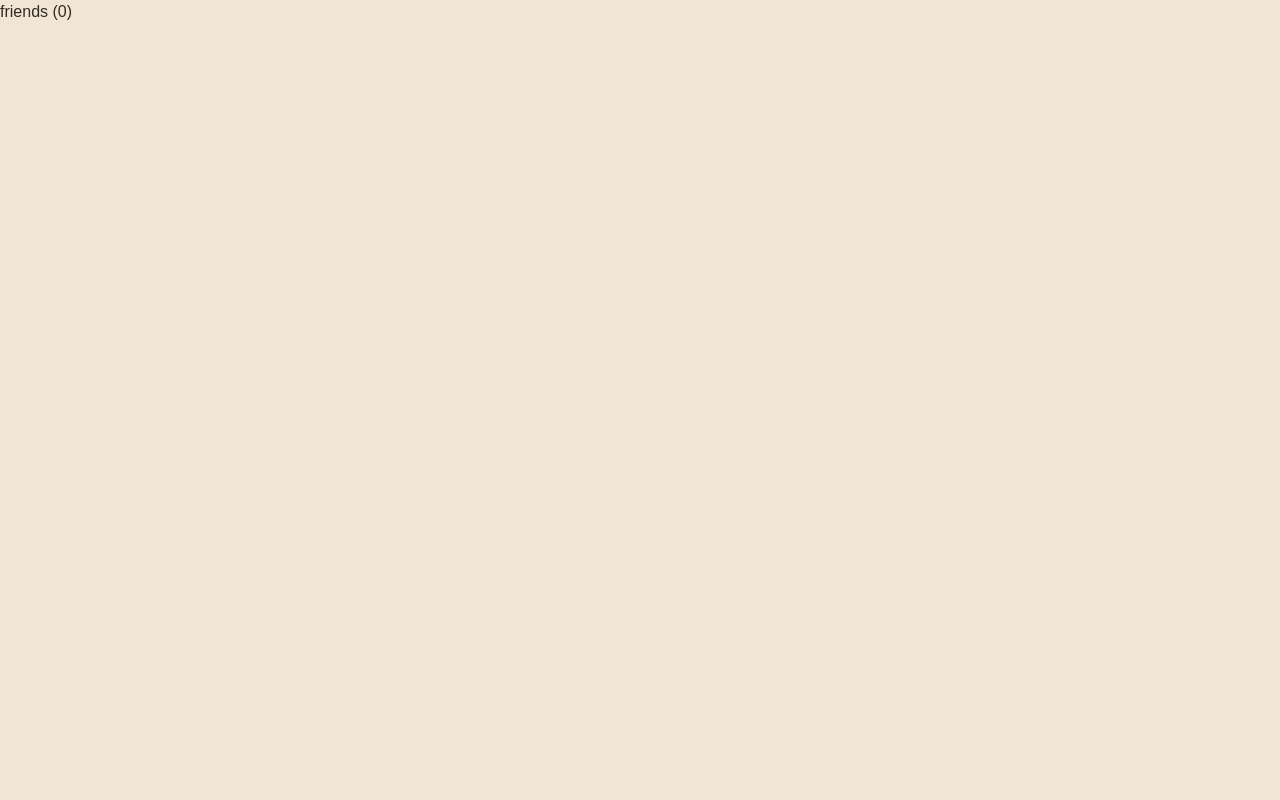
Test: FriendsPanel › search › reports no matches
Click the button "friends (0)" at (36, 12), box [0,0,72,24]
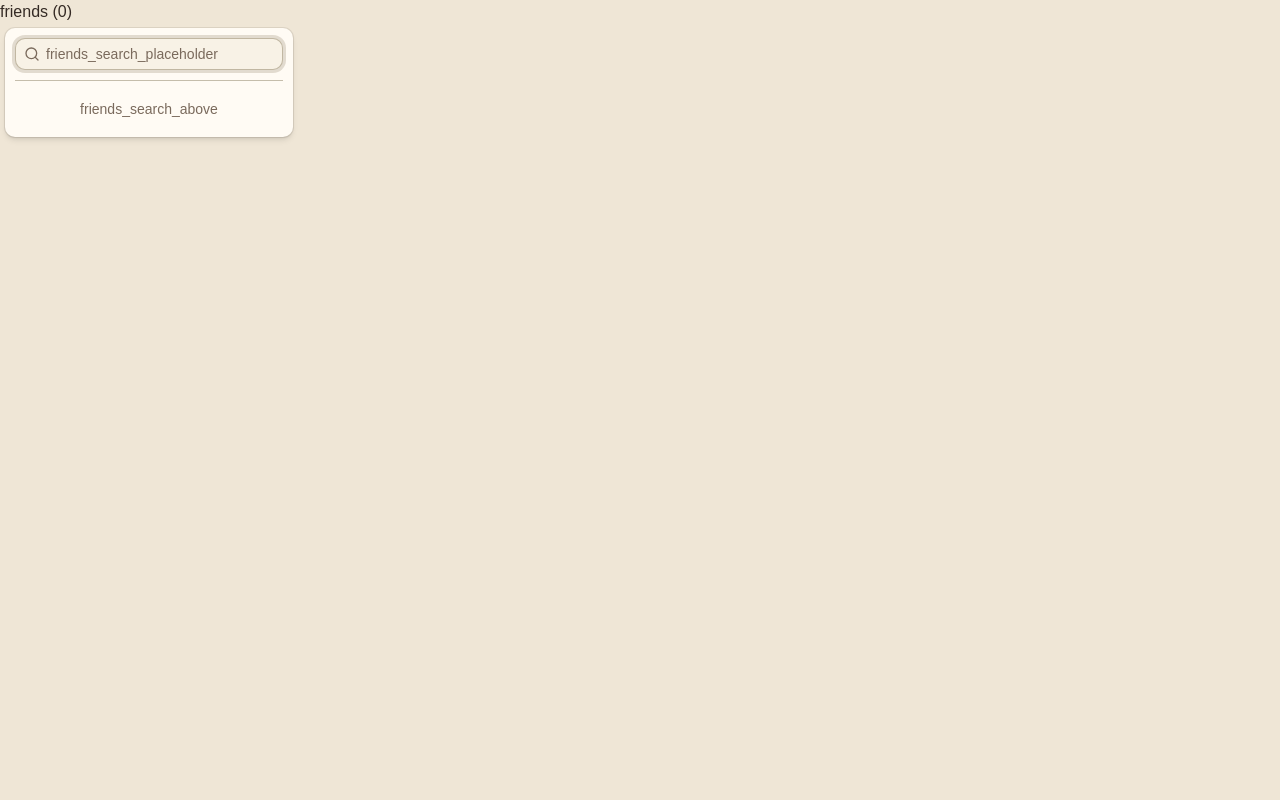
Type "nobody" into the field with placeholder "friends_search_placeholder" at (161, 54), box [40,38,282,70]
Wait 400 ms
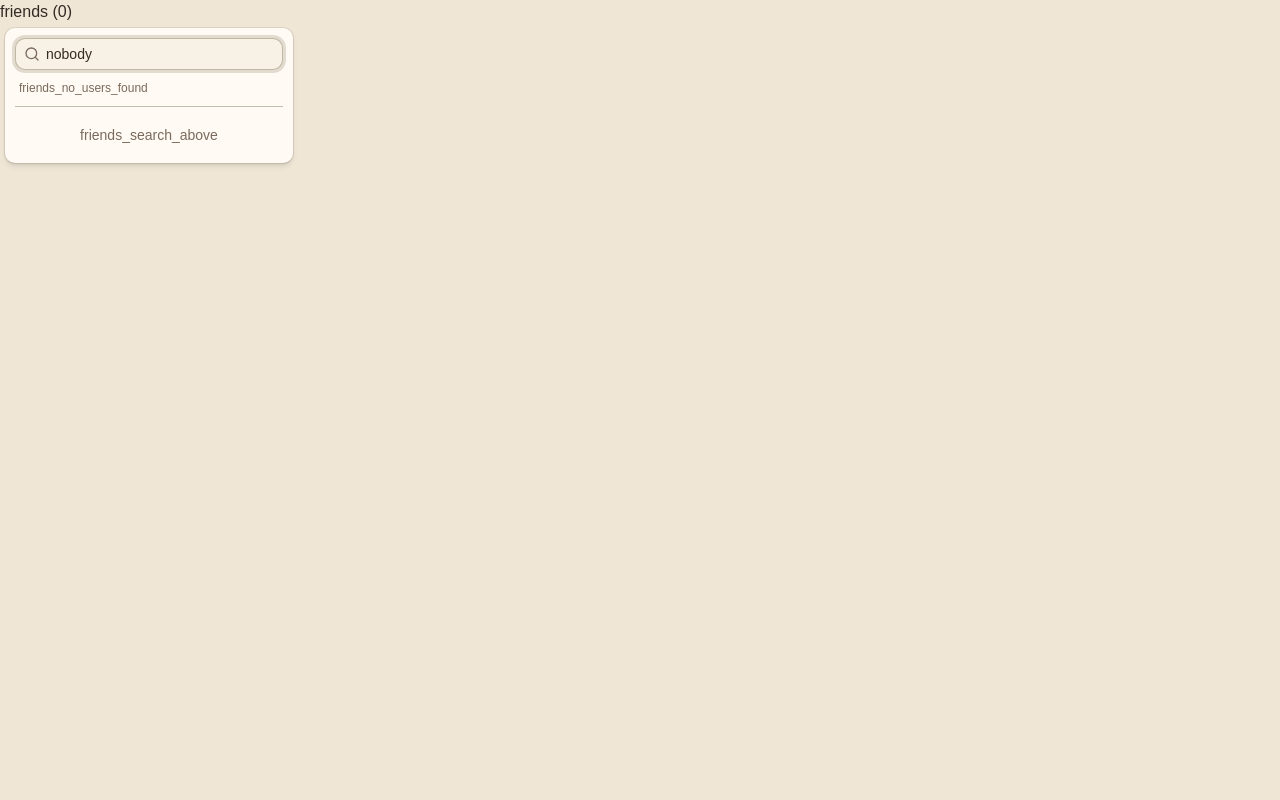
Expected: the text "friends_no_users_found" is shown, [19,81,148,95]
